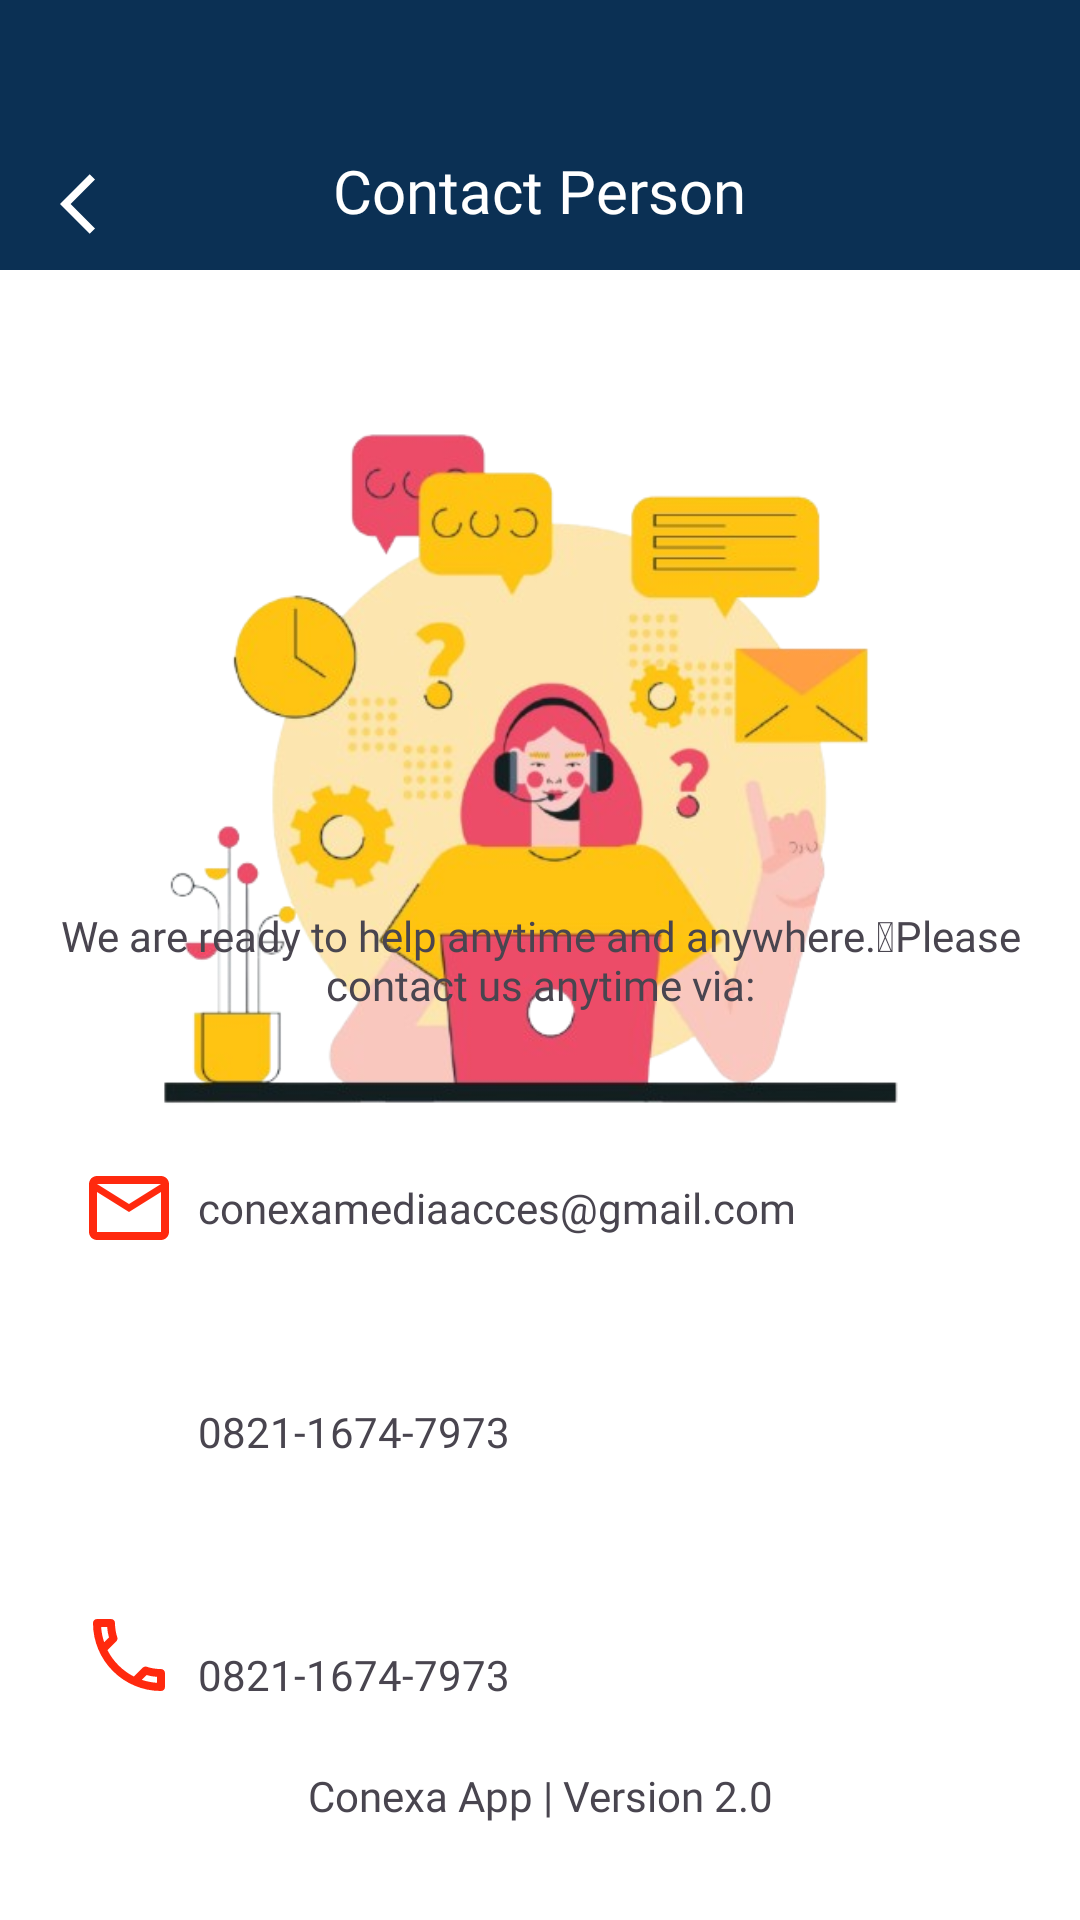

Screen size 1080px x 1920px. Icon name, then its box in pixels as (x1, y1, x2, y2):
arrow back: (60, 174, 95, 234)
call: (93, 1619, 165, 1691)
email: (89, 1176, 169, 1240)
